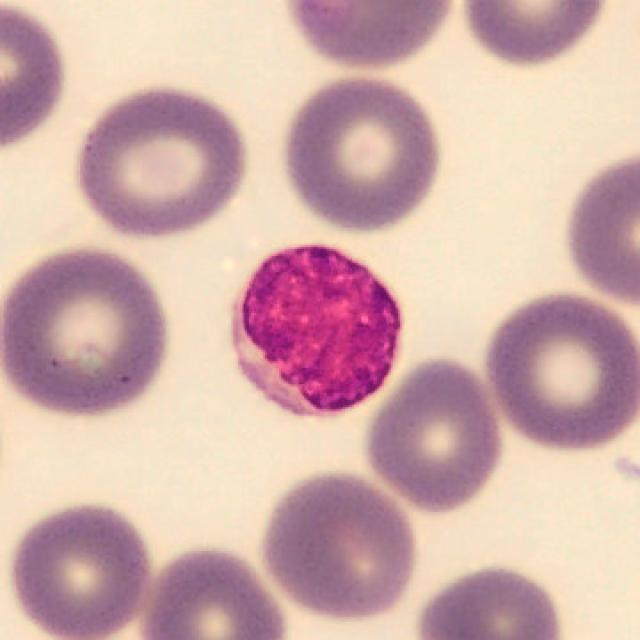Linfocito: (231, 245, 404, 416)
